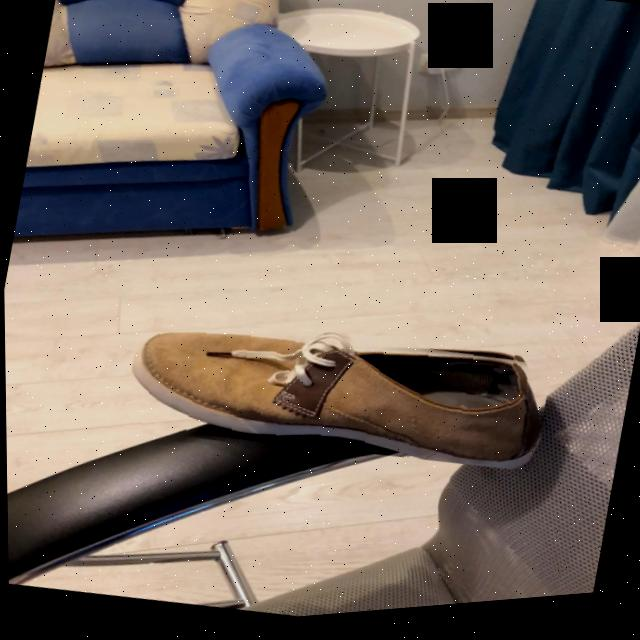shoe: (131, 335, 541, 479)
